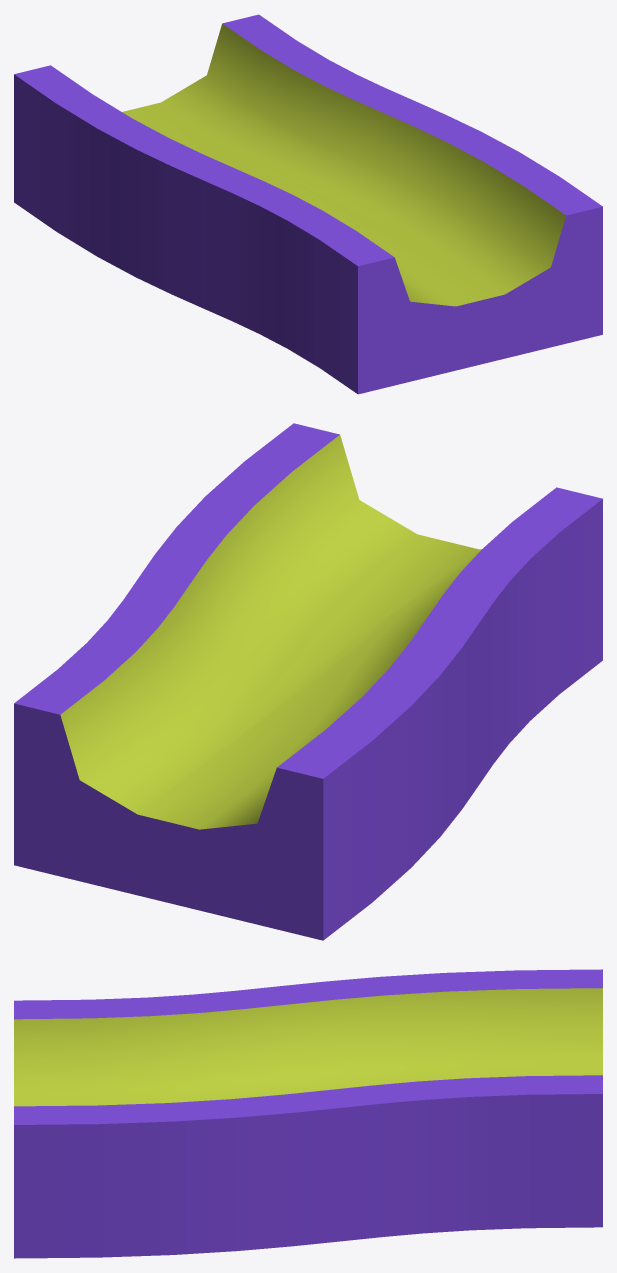
The model's file is s-curve_short_left_A-col.dae.
The picture shows the model from 3 angles, top to bottom: view 1: azimuth 30°, elevation 25°; view 2: azimuth 150°, elevation 25°; view 3: azimuth 270°, elevation 25°; orthographic projection. The views are drawn at different scales.
Parts seen in each view (by area): view 1: s-curve_short_left_A-col; view 2: s-curve_short_left_A-col; view 3: s-curve_short_left_A-col.
Boxes of the visible parts, x1,y1,x2,y2 form: s-curve_short_left_A-col: (14, 14, 602, 394); s-curve_short_left_A-col: (14, 423, 602, 940); s-curve_short_left_A-col: (14, 969, 602, 1258).
Size of the model in its own units: 1.25 by 2 by 0.5.
